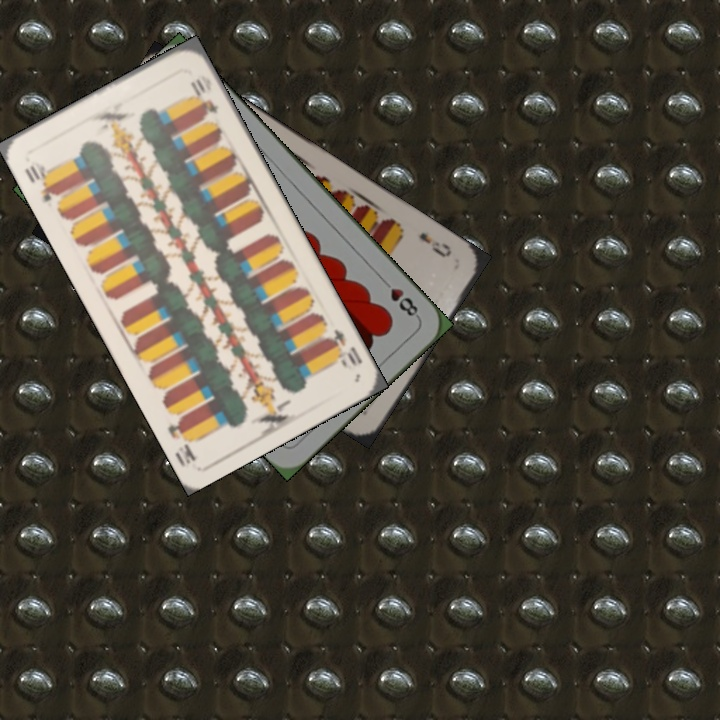E10: (20, 156, 62, 205), (322, 325, 365, 371)
E9: (414, 228, 454, 260)
H8: (377, 274, 422, 321)
